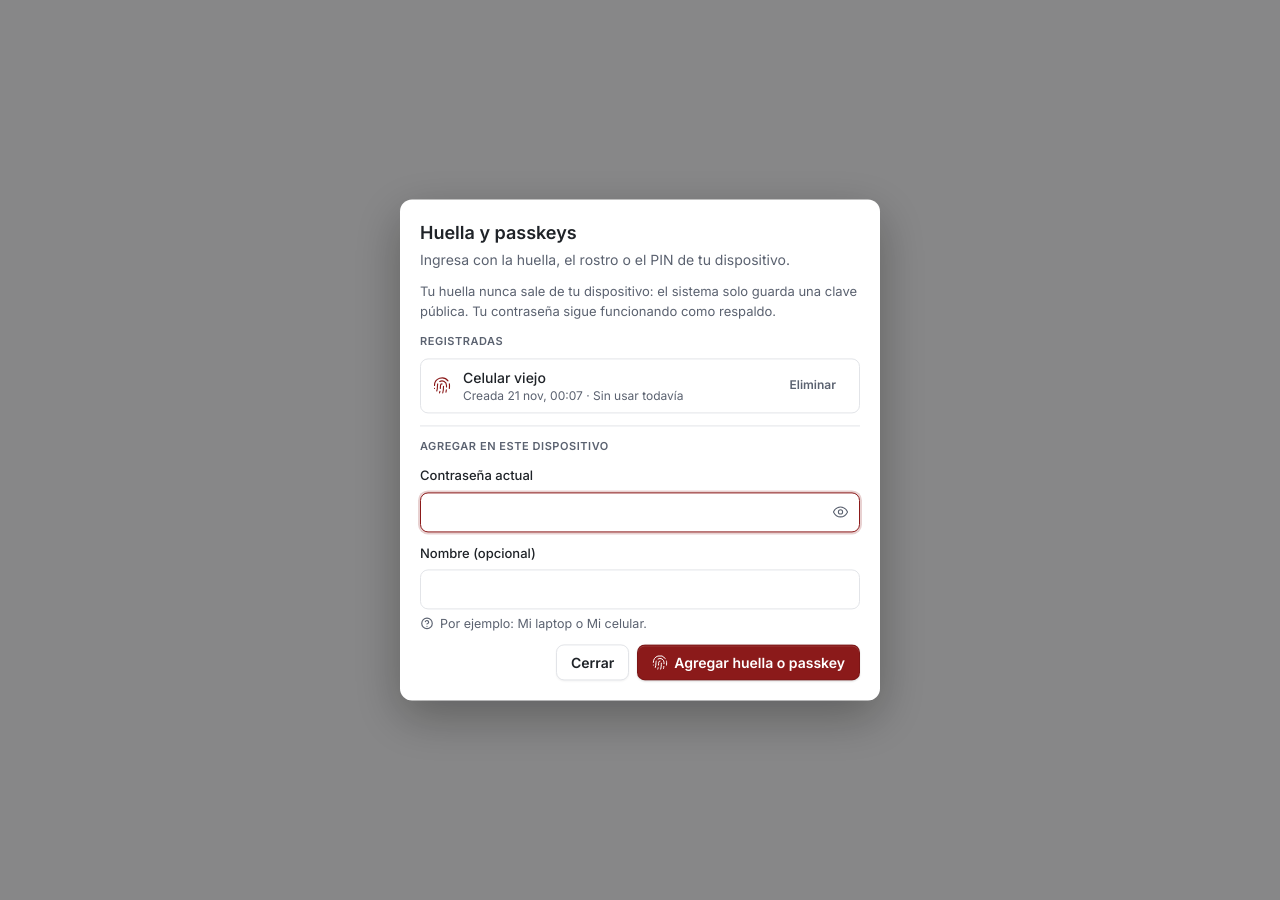
Test case: PasskeysModal › deletes a passkey
The image size is (1280, 900).
Click the button with aria-label "Eliminar Celular viejo" at (813, 385), box [778,371,847,399]
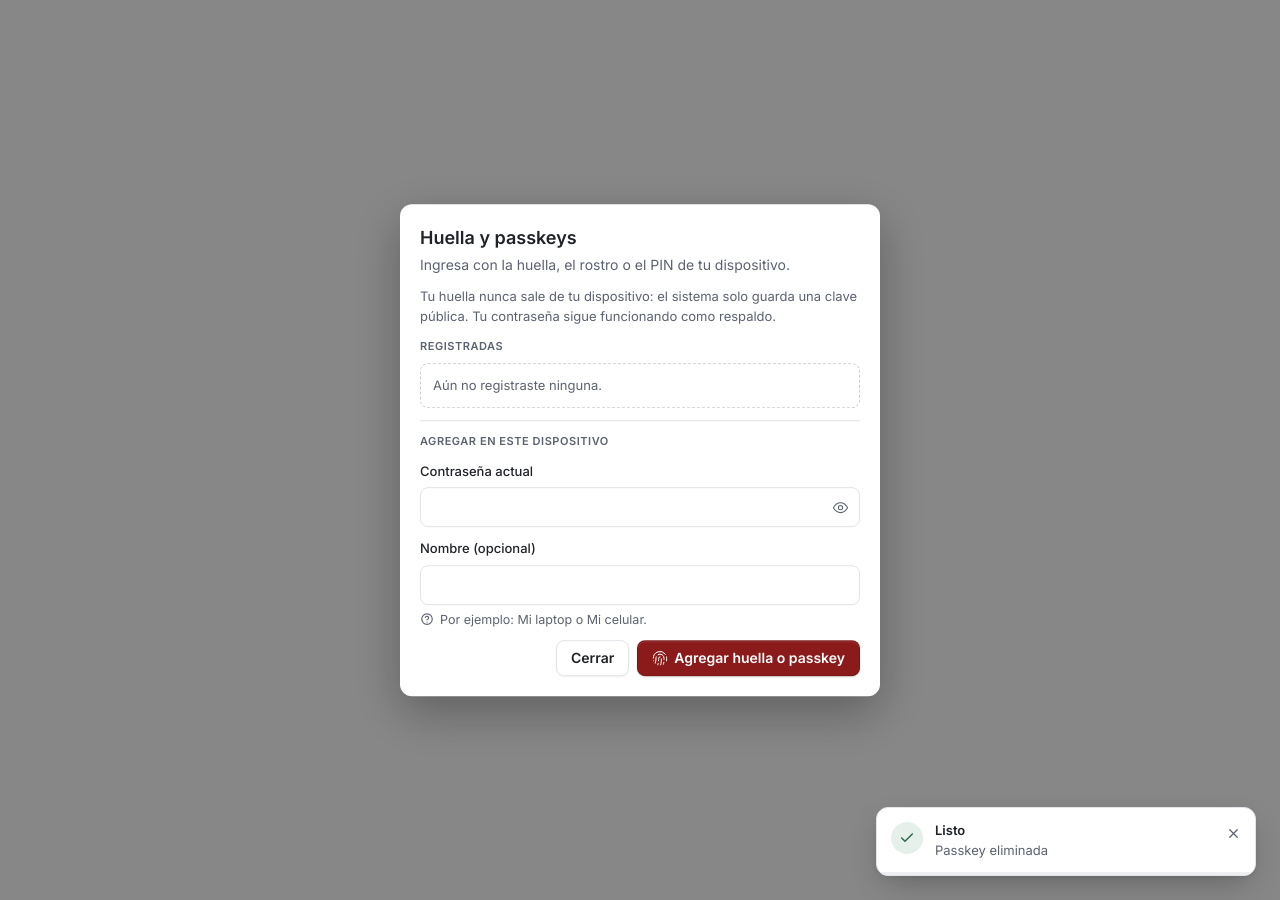
Expected: the text "Aún no registraste ninguna." is shown, [420,363,860,408]
